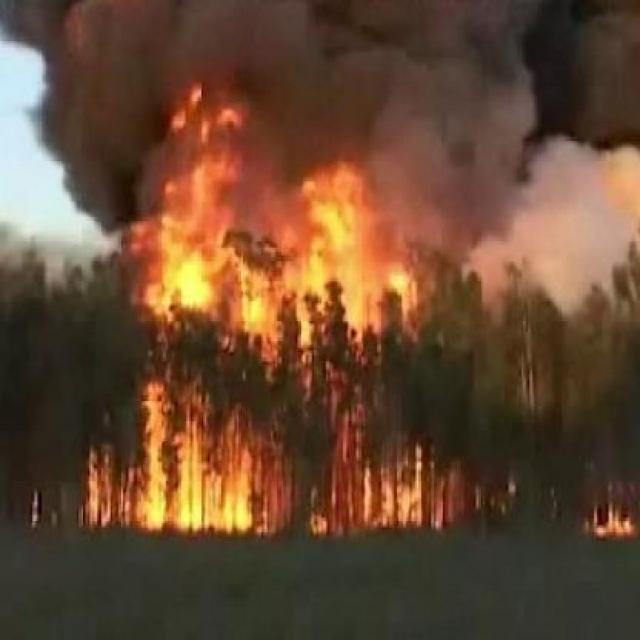Fire: (108, 90, 434, 574)
Smoke: (0, 0, 640, 152)
